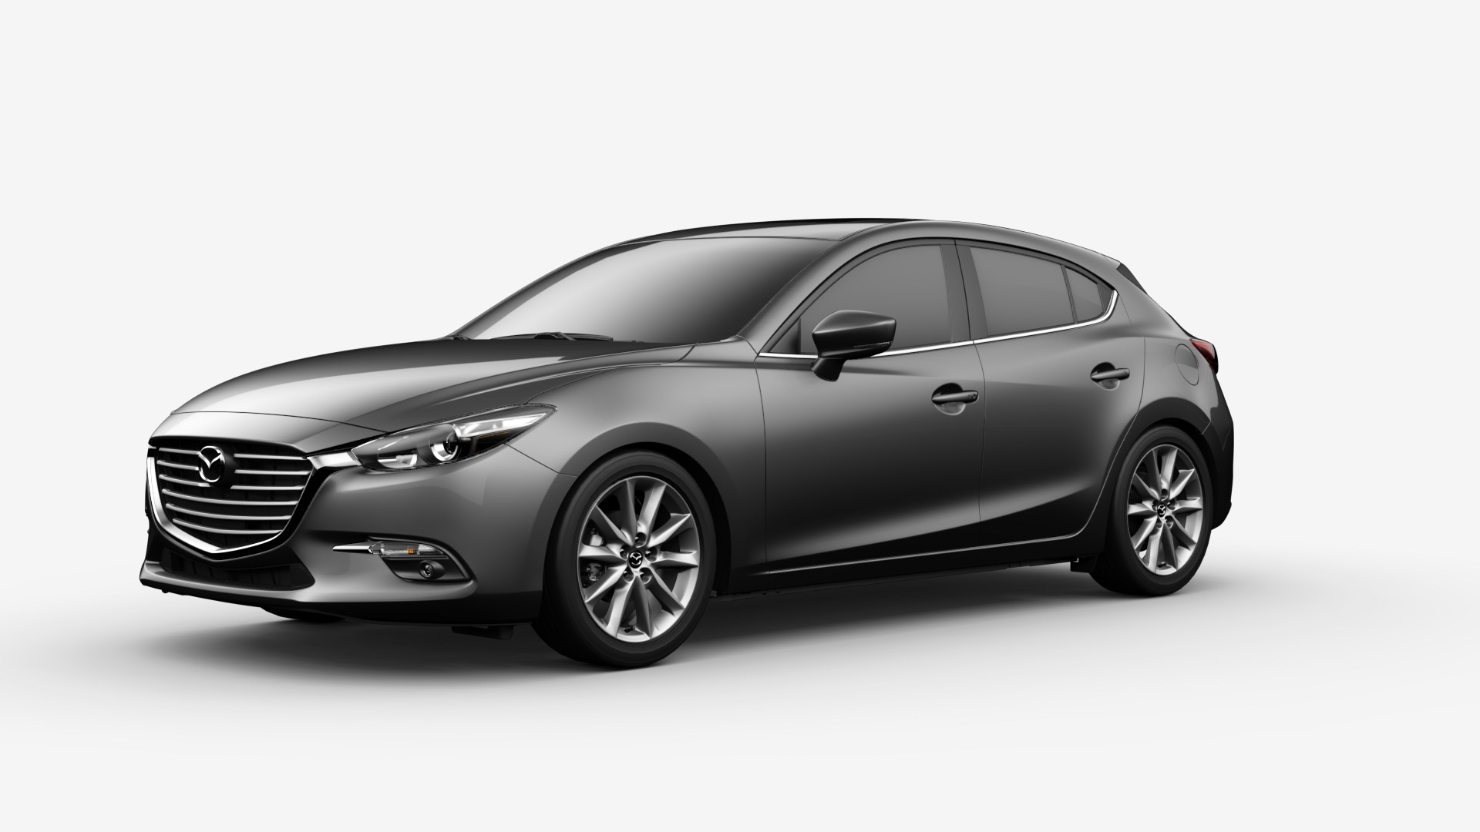Mazda3 Hatchback: (132, 209, 1244, 678)
